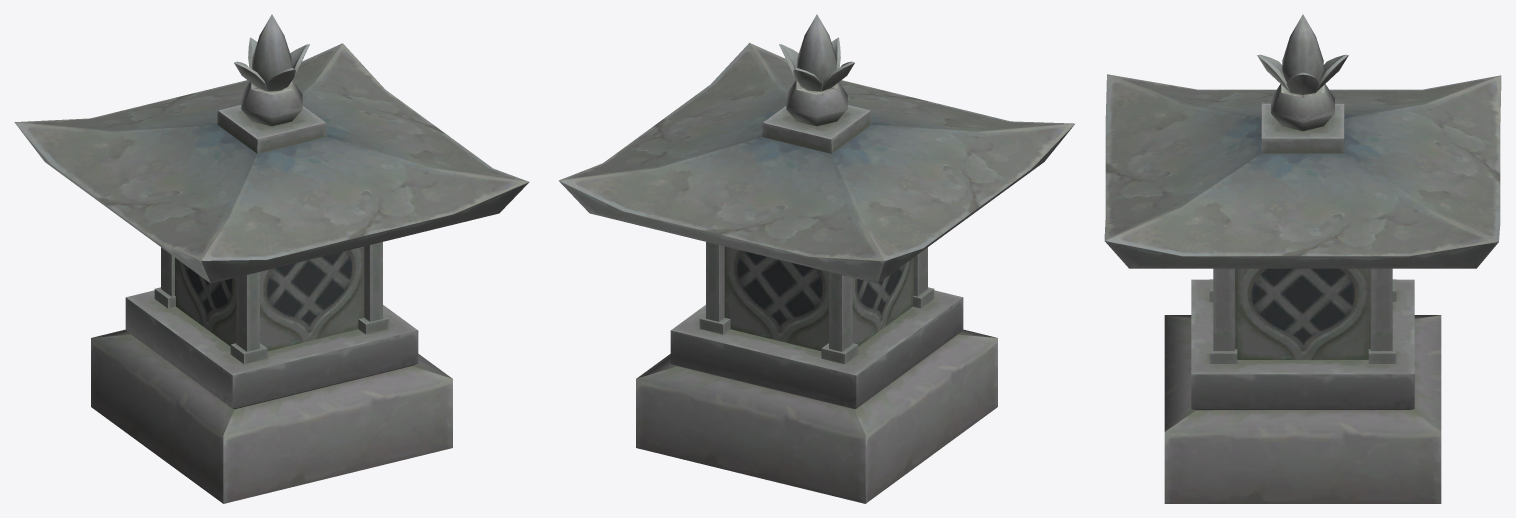
File: Homeworld_Exterior_Cyg_Lamp_Light_YlbShideng_01_Vo.fbx
The picture shows the model from 3 angles, left to right: view 1: azimuth 30°, elevation 25°; view 2: azimuth 150°, elevation 25°; view 3: azimuth 270°, elevation 25°; orthographic projection. The views are drawn at different scales.
Parts seen in each view (by area): view 1: Area_Cyg_Light_QYZ_Deng_06_Vo; view 2: Area_Cyg_Light_QYZ_Deng_06_Vo; view 3: Area_Cyg_Light_QYZ_Deng_06_Vo.
Part boxes in pixels (x1,y1,x2,y2): Area_Cyg_Light_QYZ_Deng_06_Vo: (14,14,529,503); Area_Cyg_Light_QYZ_Deng_06_Vo: (558,14,1074,503); Area_Cyg_Light_QYZ_Deng_06_Vo: (1104,14,1501,503).
Bounding box in the file's own units: 1.02 × 1.22 × 1.02.
